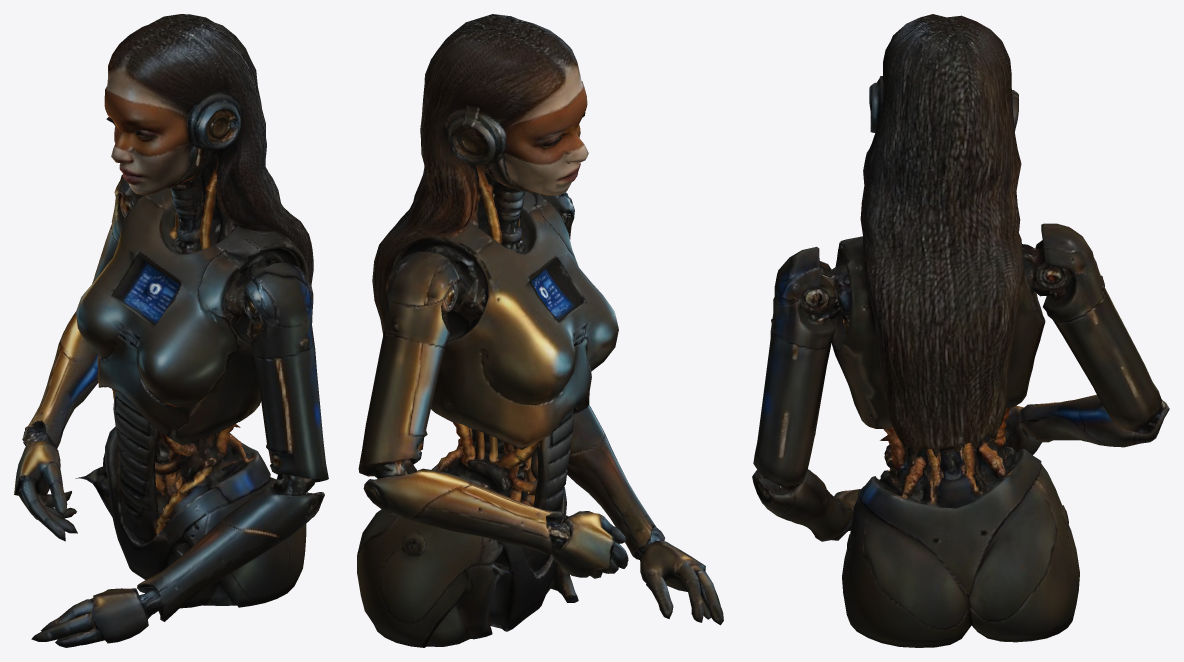
Rendered from humanoid+robot+3d+model.glb.
3 renders of one model, left to right at view 1: azimuth 30°, elevation 25°; view 2: azimuth 150°, elevation 25°; view 3: azimuth 270°, elevation 25°, orthographic. The views are drawn at different scales.
Parts seen in each view (by area): view 1: tripo_node_1ab393b4-37b7-4175-b0cb-6994e29d9962; view 2: tripo_node_1ab393b4-37b7-4175-b0cb-6994e29d9962; view 3: tripo_node_1ab393b4-37b7-4175-b0cb-6994e29d9962.
Boxes of the visible parts, x1,y1,x2,y2 form: tripo_node_1ab393b4-37b7-4175-b0cb-6994e29d9962: [14, 14, 328, 647]; tripo_node_1ab393b4-37b7-4175-b0cb-6994e29d9962: [357, 14, 723, 647]; tripo_node_1ab393b4-37b7-4175-b0cb-6994e29d9962: [752, 14, 1169, 647].
Size of the model in its own units: 0.526 by 0.9775 by 0.6408.
Materials: 1 (1 with a texture image).
